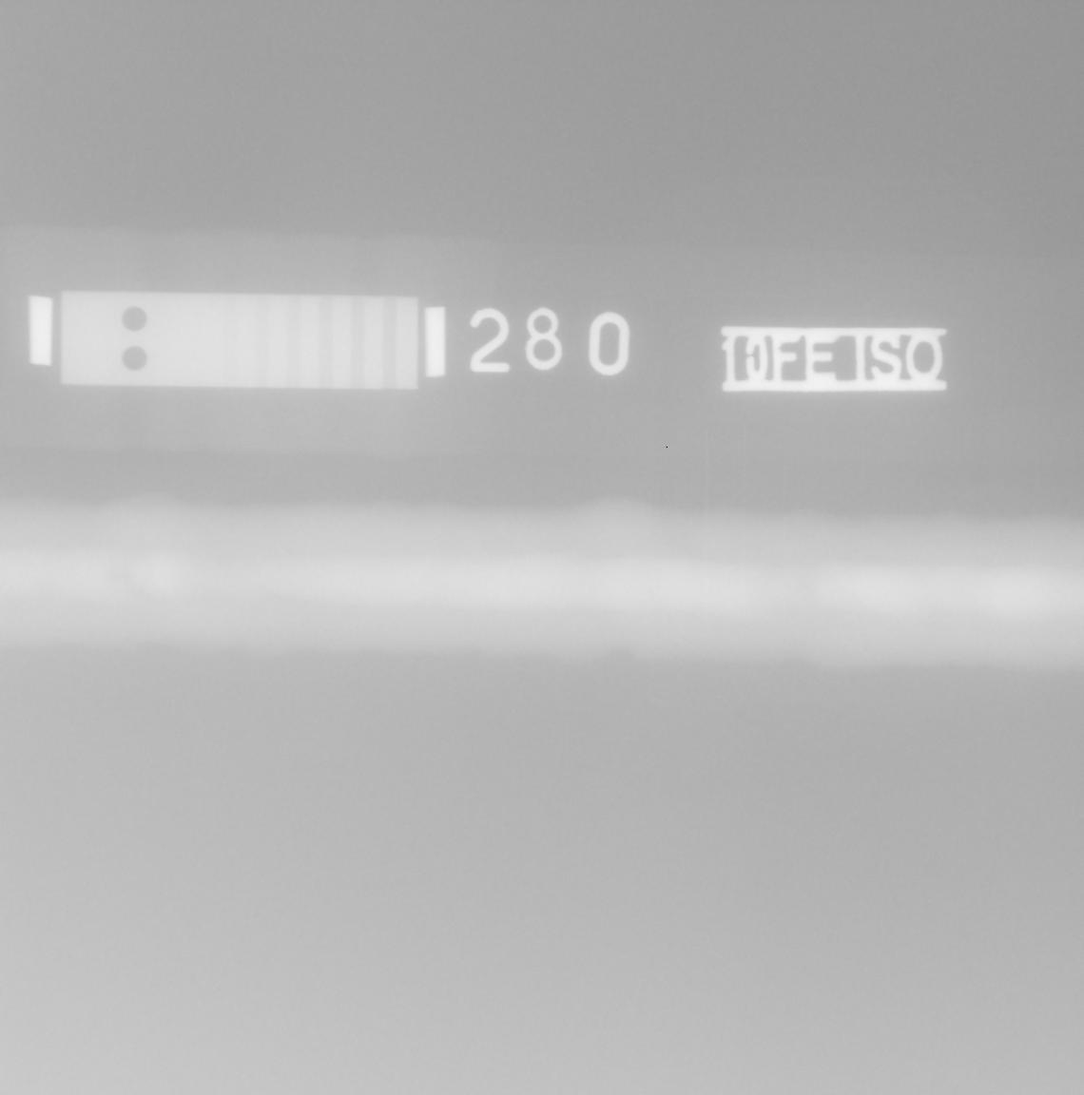Reference Standard 2: (61, 291, 419, 390)
